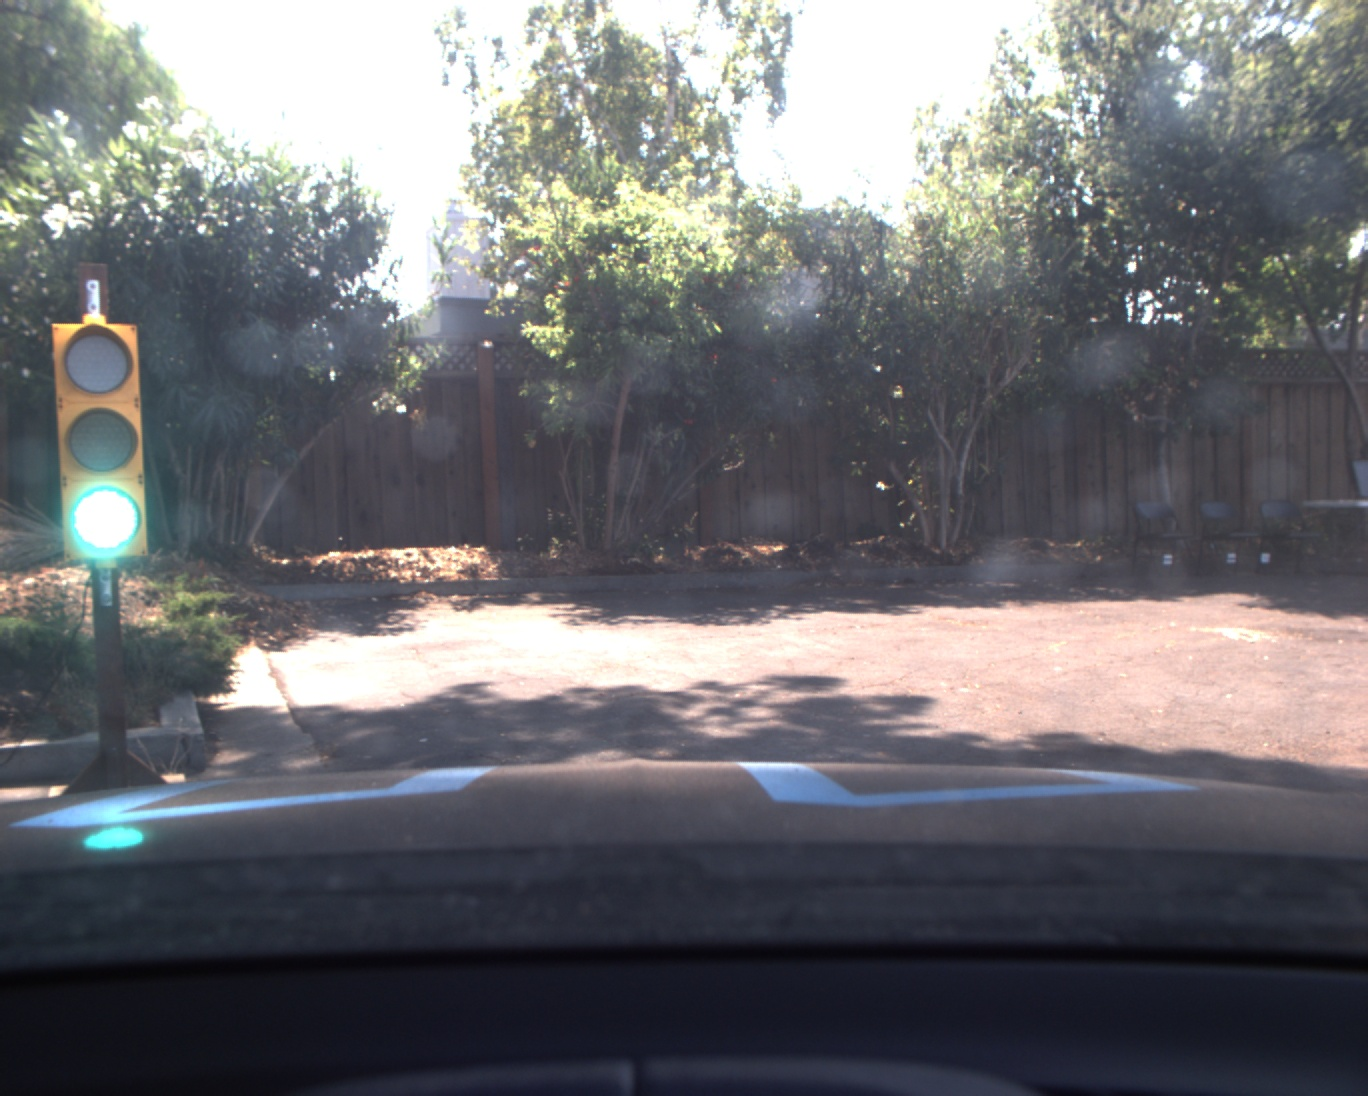green: (53, 324, 147, 554)
